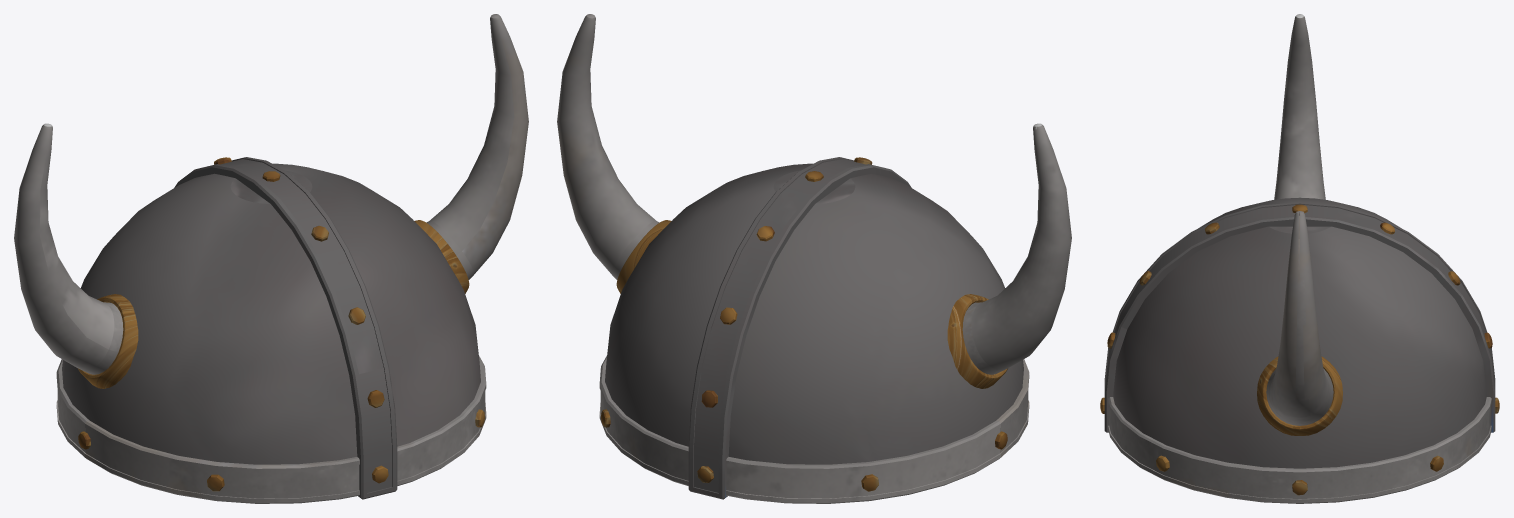
The model's file is viking helmet.fbx.
The picture shows the model from 3 angles, left to right: view 1: azimuth 30°, elevation 25°; view 2: azimuth 150°, elevation 25°; view 3: azimuth 270°, elevation 25°; orthographic projection. The views are drawn at different scales.
Visible parts, largest first — view 1: Helmet; view 2: Helmet; view 3: Helmet.
Boxes of the visible parts, x1,y1,x2,y2 form: Helmet: [14, 14, 528, 503]; Helmet: [557, 14, 1071, 503]; Helmet: [1100, 14, 1499, 503].
Bounding box in the file's own units: 2.81 × 1.83 × 2.12.
